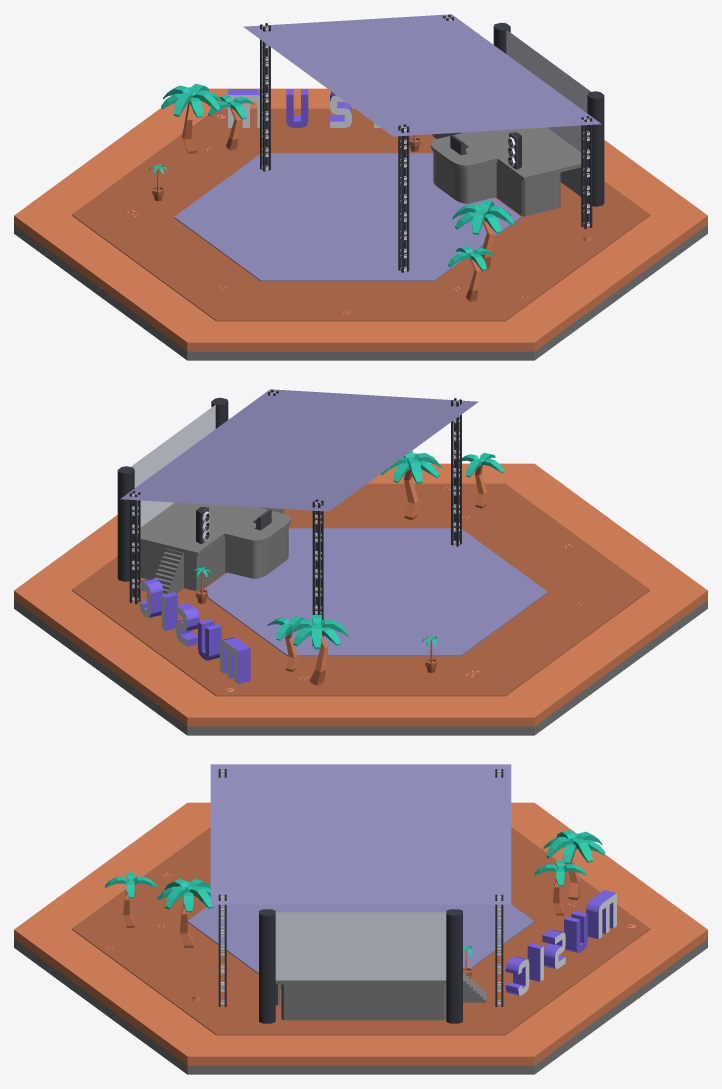
File: Music-Space-v1.fbx
The picture shows the model from 3 angles, top to bottom: view 1: azimuth 30°, elevation 25°; view 2: azimuth 150°, elevation 25°; view 3: azimuth 270°, elevation 25°; orthographic projection.
Parts seen in each view (by area): view 1: dirt (×2), stone_mountain, platform_center, banner, roof_flatCenter, tree_palmDetailedShort (×2), wall (×2), hut, tree_palmShort (×2), hut_roof, M, U (+1 smaller); view 2: dirt (×2), stone_mountain, platform_center, banner, roof_flatCenter, tree_palmDetailedShort (×2), hut, wall (×2), tree_palmShort (×2), hut_roof, M, U (+4 smaller); view 3: stone_mountain, platform_center, dirt (×2), banner, wall (×4), tree_palmDetailedShort (×2), tree_palmShort (×2), M, U, roof_flatCenter, C, S (+1 smaller).
Part boxes in pixels (<box>): dirt (×2): <box>72,108,650,321</box>; stone_mountain: <box>14,88,707,360</box>; platform_center: <box>243,14,601,136</box>; banner: <box>493,22,604,206</box>; roof_flatCenter: <box>458,127,584,181</box>; tree_palmDetailedShort (×2): <box>161,83,513,271</box>; wall (×2): <box>496,162,560,216</box>; hut: <box>433,152,496,203</box>; tree_palmShort (×2): <box>208,95,494,301</box>; hut_roof: <box>431,133,497,169</box>; M: <box>228,89,262,127</box>; U: <box>286,89,308,127</box>; dirt (×2): <box>72,483,650,696</box>; stone_mountain: <box>14,463,707,735</box>; platform_center: <box>120,389,478,511</box>; banner: <box>117,397,228,581</box>; roof_flatCenter: <box>137,502,263,556</box>; tree_palmDetailedShort (×2): <box>286,451,441,685</box>; hut: <box>225,527,288,578</box>; wall (×2): <box>137,537,225,590</box>; tree_palmShort (×2): <box>267,452,504,671</box>; hut_roof: <box>224,508,290,544</box>; M: <box>220,637,250,684</box>; U: <box>198,619,221,660</box>; stone_mountain: <box>14,802,707,1074</box>; platform_center: <box>210,764,511,904</box>; dirt (×2): <box>72,827,650,1035</box>; banner: <box>259,909,462,1023</box>; wall (×4): <box>281,984,446,1020</box>; tree_palmDetailedShort (×2): <box>157,830,605,947</box>; tree_palmShort (×2): <box>105,860,586,927</box>; M: <box>586,890,616,939</box>; U: <box>564,911,587,952</box>; roof_flatCenter: <box>275,980,446,984</box>; C: <box>505,956,529,995</box>; S: <box>542,929,565,968</box>.
Bounding box in the file's own units: 600 × 270 × 693.
